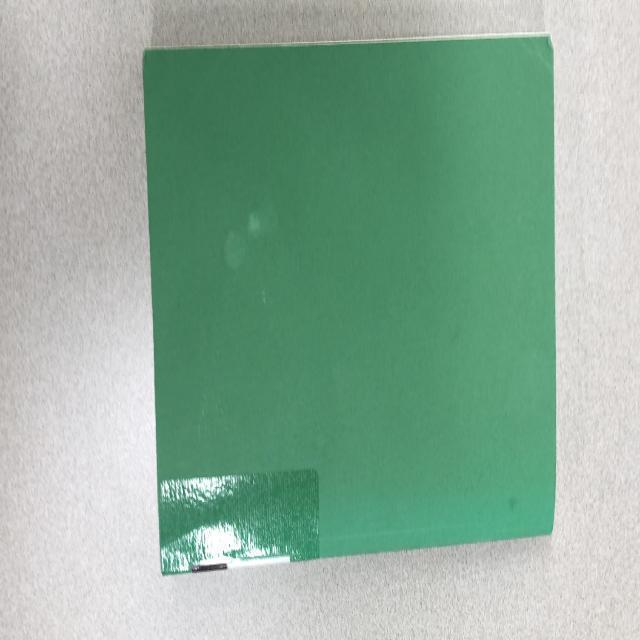Wornout: (133, 42, 159, 80)
